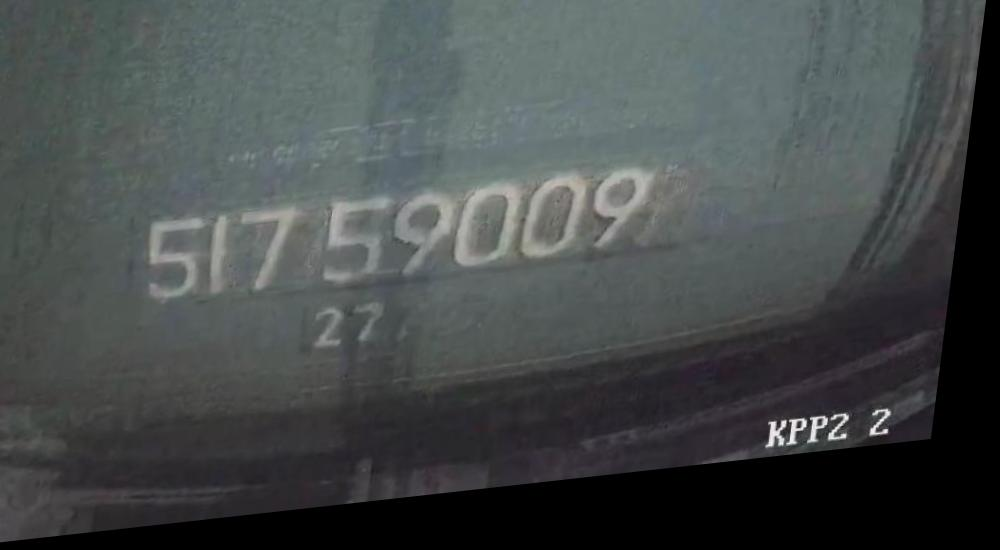Wagon-number: (143, 172, 660, 315)
